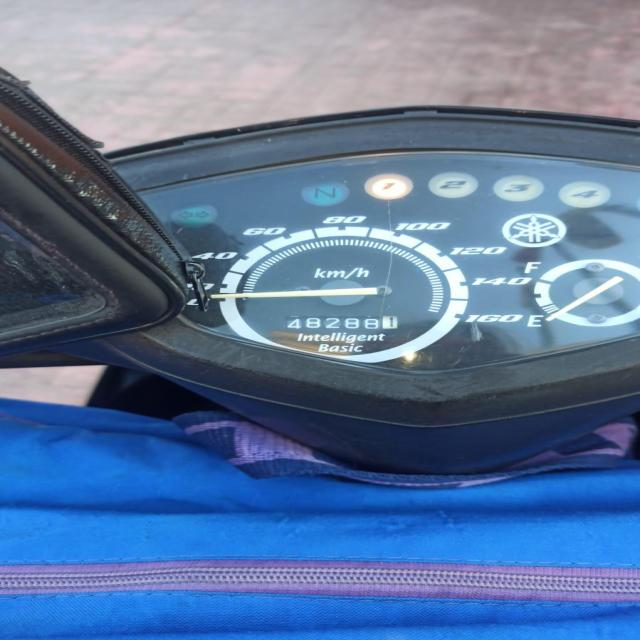odometer: (283, 315, 398, 329)
